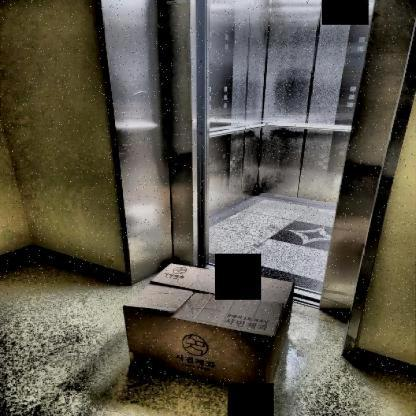-: (116, 249, 309, 405)
